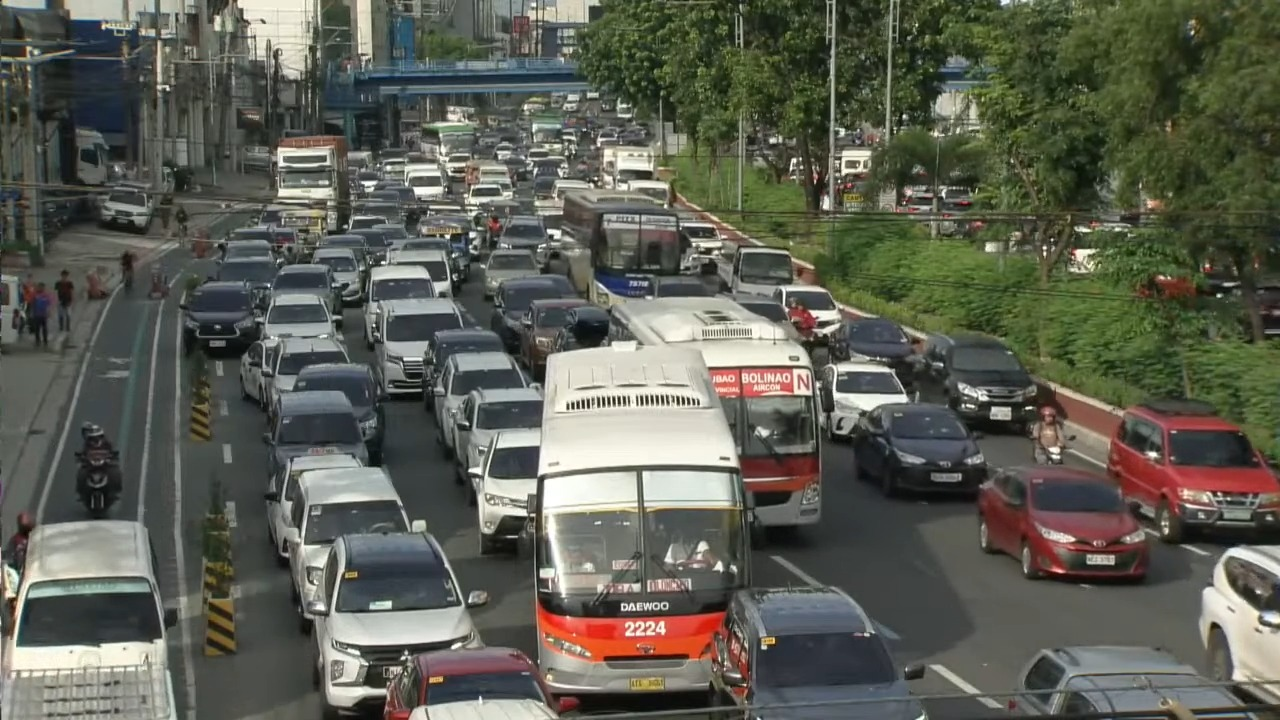bus: (523, 343, 759, 694), (610, 297, 828, 526), (560, 189, 684, 306), (420, 122, 476, 157)
car: (307, 533, 488, 715), (710, 587, 925, 719), (1107, 399, 1279, 542), (284, 467, 424, 631), (977, 465, 1148, 580), (1008, 645, 1256, 719), (383, 647, 579, 719), (1198, 545, 1279, 703), (850, 403, 986, 496), (918, 334, 1038, 433), (432, 352, 533, 457), (266, 454, 361, 565), (294, 363, 385, 465), (467, 429, 540, 554), (452, 387, 542, 484), (373, 298, 464, 393), (263, 391, 367, 473), (241, 338, 349, 411), (819, 360, 910, 439), (490, 275, 577, 354), (830, 317, 915, 391), (362, 265, 436, 349), (180, 281, 258, 352), (519, 298, 587, 379), (424, 327, 504, 386), (271, 263, 344, 327), (771, 285, 843, 341), (720, 293, 801, 341), (263, 293, 340, 338), (238, 337, 281, 412), (407, 698, 559, 719), (389, 249, 454, 297), (311, 246, 362, 306), (549, 304, 610, 353), (483, 249, 540, 299), (99, 188, 155, 233), (211, 258, 278, 293), (317, 233, 370, 273), (680, 213, 723, 255), (497, 215, 547, 251), (346, 228, 390, 266), (651, 275, 714, 297), (356, 201, 402, 226), (464, 183, 503, 212), (221, 240, 273, 261), (250, 204, 295, 227), (268, 226, 301, 256), (532, 173, 558, 205), (221, 227, 273, 243), (393, 237, 450, 251), (371, 223, 408, 242), (347, 215, 387, 231), (356, 169, 380, 193), (494, 142, 514, 161), (562, 100, 580, 112)
motorcycle: (76, 449, 119, 518), (790, 318, 818, 356), (1037, 444, 1064, 465), (1041, 446, 1064, 464)
truck: (0, 663, 177, 719), (275, 135, 349, 231), (600, 145, 656, 190), (75, 128, 110, 185), (530, 113, 562, 150), (838, 147, 872, 177)
